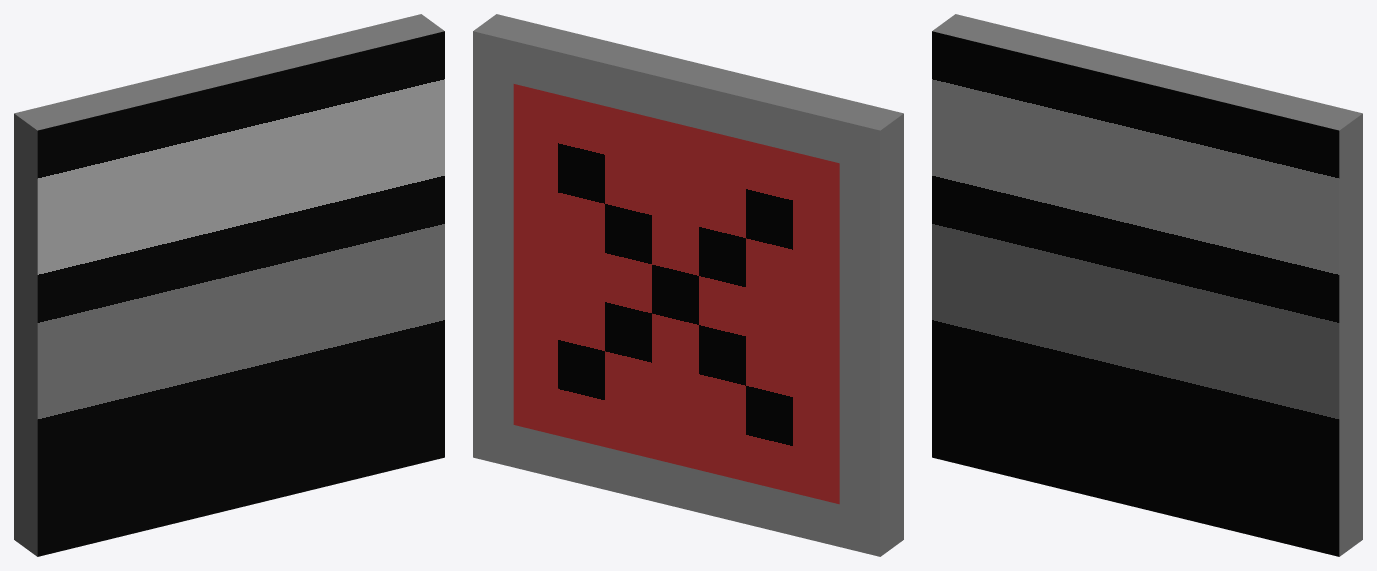
File: display.fbx
3 renders of one model, left to right at view 1: azimuth 30°, elevation 25°; view 2: azimuth 150°, elevation 25°; view 3: azimuth 330°, elevation 25°, orthographic.
Parts seen in each view (by area): view 1: display; view 2: display; view 3: display.
Part boxes in pixels (<box>): display: <box>14,14,444,556</box>; display: <box>473,14,903,556</box>; display: <box>932,14,1362,556</box>.
Size of the model in its own units: 100 by 100 by 10.
